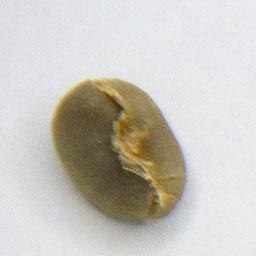premium: (47, 75, 193, 228)
